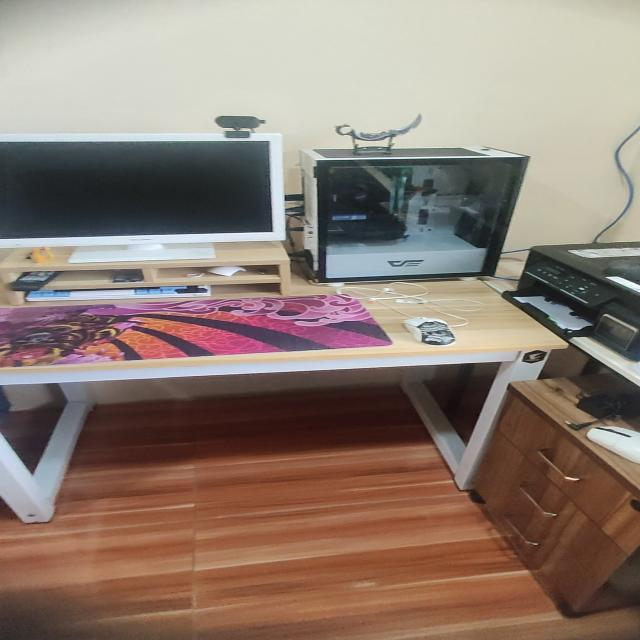table: (0, 263, 572, 522)
